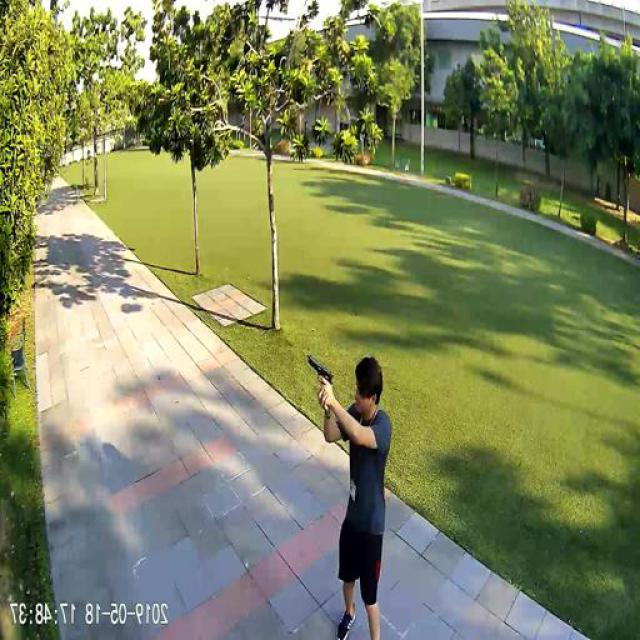Gun: (309, 352, 335, 382)
